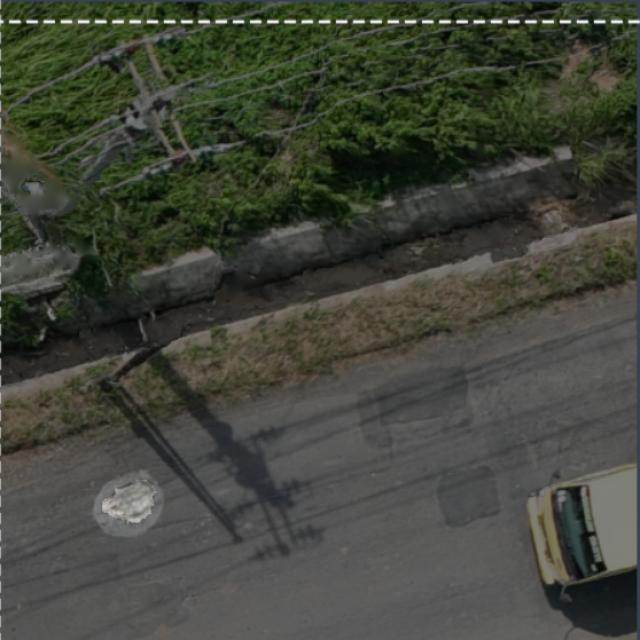crack: (102, 479, 156, 523)
road: (3, 289, 634, 639)
